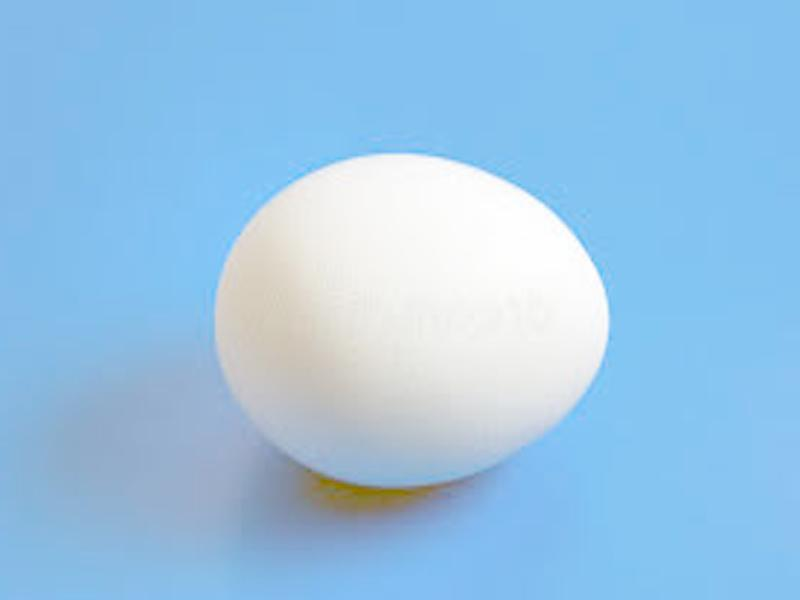Eggs: (211, 154, 613, 489)
